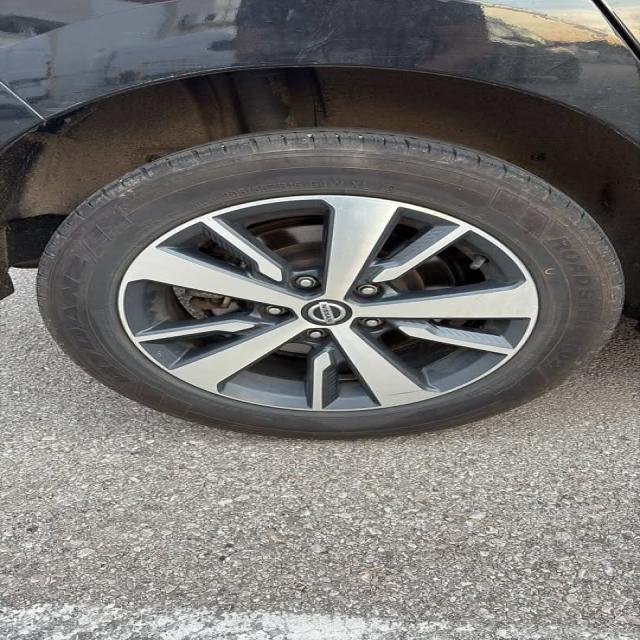jante: (113, 194, 542, 412)
parafuso: (288, 273, 322, 292), (350, 282, 382, 301), (257, 304, 291, 320), (354, 316, 387, 331), (301, 326, 329, 342)
roda: (35, 126, 626, 442)
